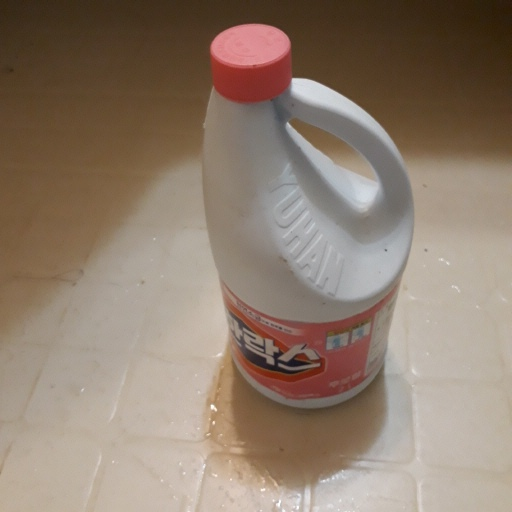Plastic_1: (203, 22, 415, 408)
